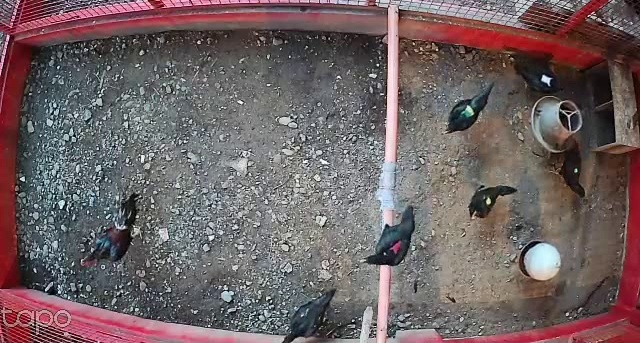Chicken: (356, 193, 418, 265), (275, 283, 338, 343), (439, 78, 496, 137), (505, 51, 572, 98), (463, 177, 519, 229)
Rooster: (76, 192, 154, 273)
Saddle_Color_Red: (388, 239, 402, 255)
Saddle_Color_White: (541, 73, 555, 88)
Saddle_Color_Yellow: (481, 194, 494, 208)
Saddle_Color_YellowGreen: (461, 105, 477, 119)
